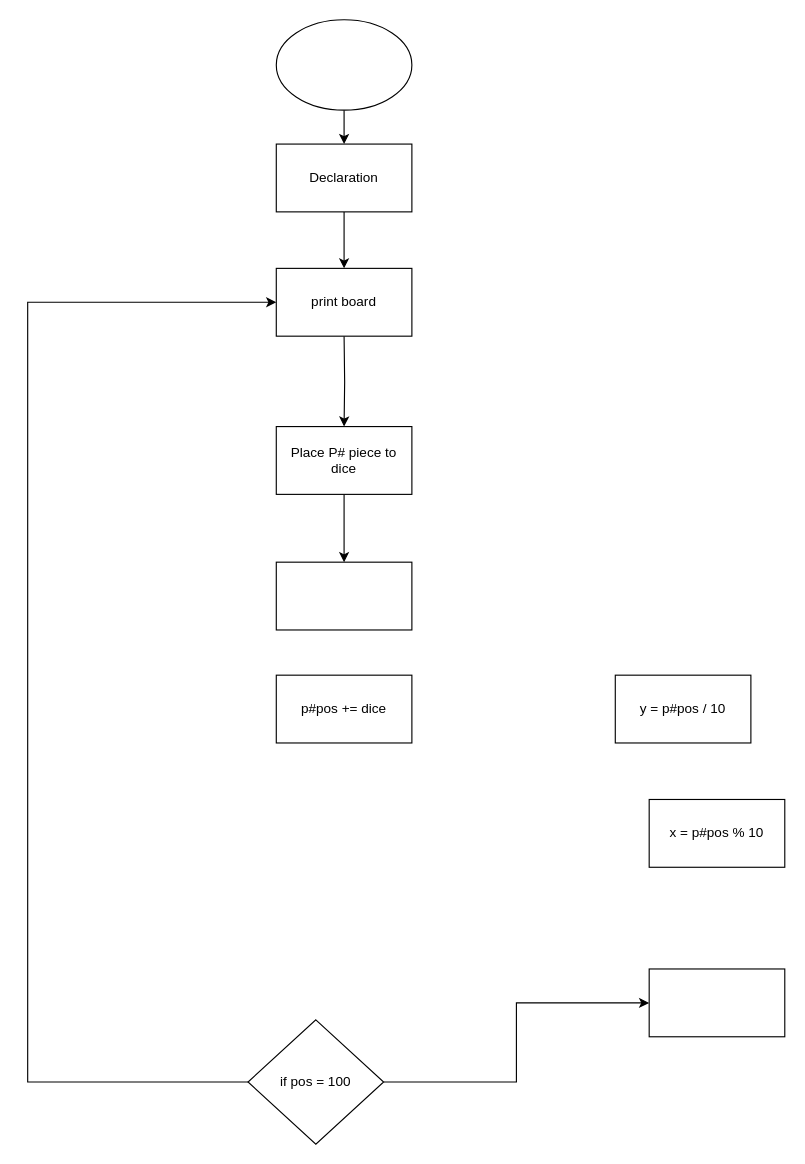
Image size: 805x1164. Some labels were removed from this diagram. The box of each missing label's shape, as (x1, y1, x2, y2) in pixels:
Roll dice: (275, 561, 412, 630)
Start: (275, 19, 412, 110)
winner is P#: (648, 968, 785, 1037)
